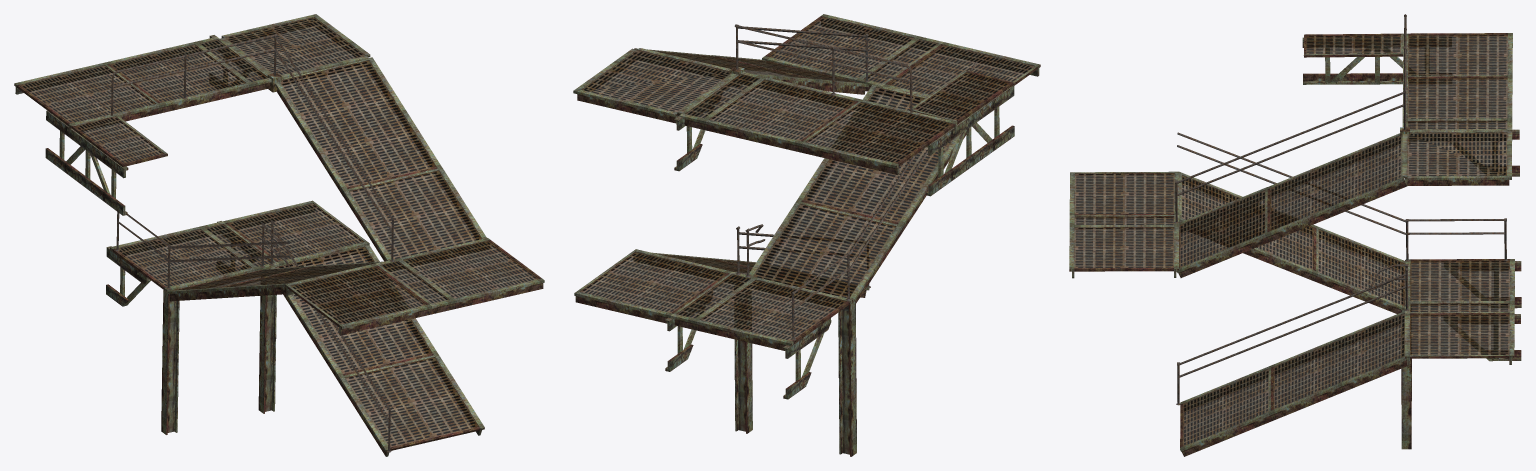
File: stairway.glb
3 renders of one model, left to right at view 1: azimuth 30°, elevation 25°; view 2: azimuth 150°, elevation 25°; view 3: azimuth 270°, elevation 25°, orthographic. The views are drawn at different scales.
Parts seen in each view (by area): view 1: DrawCal143, DrawCal133, DrawCal131, DrawCal142, DrawCal135, DrawCal136, DrawCal140, DrawCal138, DrawCal139, DrawCal134, DrawCal137, DrawCall49 (+27 smaller); view 2: DrawCal132, DrawCal141, DrawCal140, DrawCal138, DrawCal134, DrawCal139, DrawCal137, DrawCal136, DrawCal135, DrawCall49, DrawCall64, DrawCal127 (+28 smaller); view 3: DrawCal142, DrawCal143, DrawCal140, DrawCal135, DrawCal138, DrawCal134, DrawCal137, DrawCal136, DrawCal139, DrawCal131, DrawCal133, DrawCal132 (+25 smaller).
Boxes of the visible parts, left/top/right/bottom form: DrawCal143: left=280, top=60, right=436, bottom=187; DrawCal133: left=345, top=357, right=478, bottom=447; DrawCal131: left=349, top=170, right=481, bottom=259; DrawCal142: left=275, top=247, right=431, bottom=373; DrawCal135: left=290, top=266, right=426, bottom=324; DrawCal136: left=403, top=241, right=538, bottom=298; DrawCal140: left=225, top=17, right=364, bottom=75; DrawCal138: left=20, top=65, right=155, bottom=123; DrawCal139: left=110, top=45, right=245, bottom=102; DrawCal134: left=228, top=203, right=363, bottom=261; DrawCal137: left=116, top=229, right=251, bottom=287; DrawCall49: left=45, top=110, right=128, bottom=215; DrawCal132: left=753, top=204, right=895, bottom=298; DrawCal141: left=803, top=87, right=952, bottom=222; DrawCal140: left=582, top=50, right=730, bottom=112; DrawCal138: left=806, top=102, right=951, bottom=163; DrawCal134: left=580, top=252, right=725, bottom=312; DrawCal139: left=709, top=80, right=855, bottom=140; DrawCal137: left=701, top=280, right=846, bottom=340; DrawCal136: left=768, top=17, right=913, bottom=77; DrawCal135: left=888, top=45, right=1034, bottom=94; DrawCall49: left=925, top=85, right=1014, bottom=196; DrawCall64: left=838, top=300, right=856, bottom=456; DrawCal127: left=914, top=72, right=1008, bottom=120; DrawCal142: left=1273, top=314, right=1404, bottom=409; DrawCal143: left=1270, top=136, right=1401, bottom=230; DrawCal140: left=1407, top=132, right=1507, bottom=175; DrawCal135: left=1074, top=173, right=1174, bottom=214; DrawCal138: left=1408, top=34, right=1507, bottom=75; DrawCal134: left=1410, top=314, right=1509, bottom=355; DrawCal137: left=1410, top=260, right=1509, bottom=301; DrawCal136: left=1074, top=227, right=1174, bottom=268; DrawCal139: left=1407, top=77, right=1507, bottom=118; DrawCal131: left=1179, top=190, right=1265, bottom=267; DrawCal133: left=1182, top=369, right=1268, bottom=446; DrawCal132: left=1318, top=229, right=1404, bottom=305.
Bounding box in the file's own units: 6.72 × 8.02 × 9.08.
3 materials, 3 textured.
